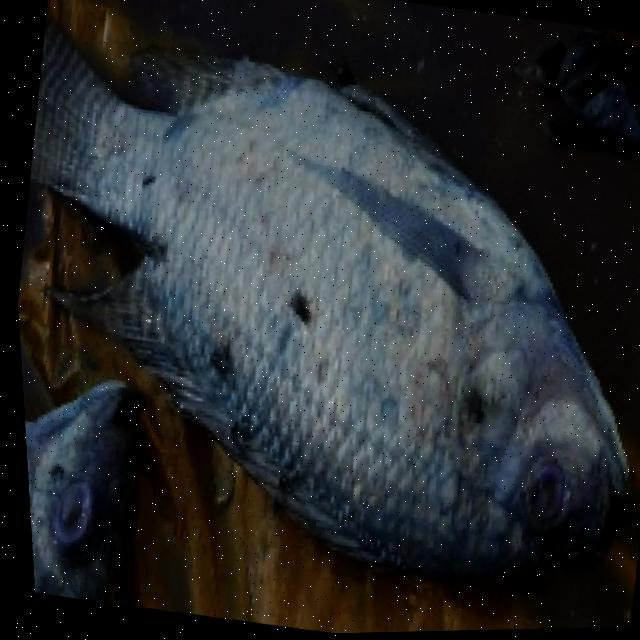Non-Fresh: (141, 109, 514, 463), (493, 440, 590, 538), (21, 455, 113, 557)
